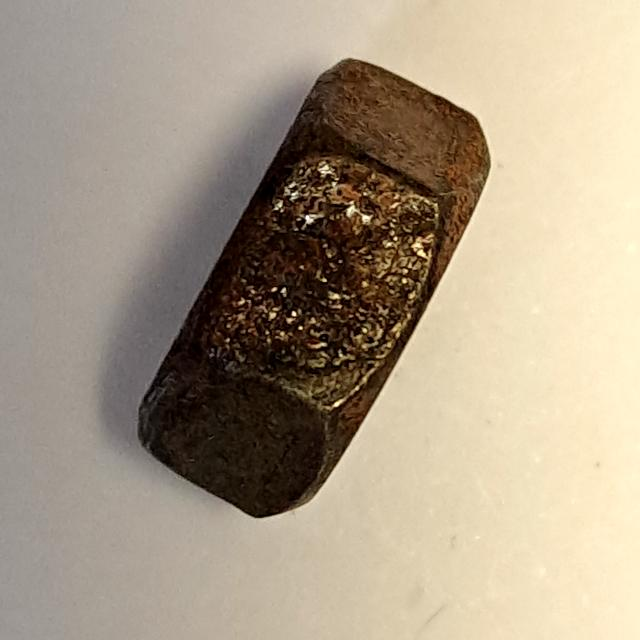Side_Rust: (130, 34, 499, 542)
